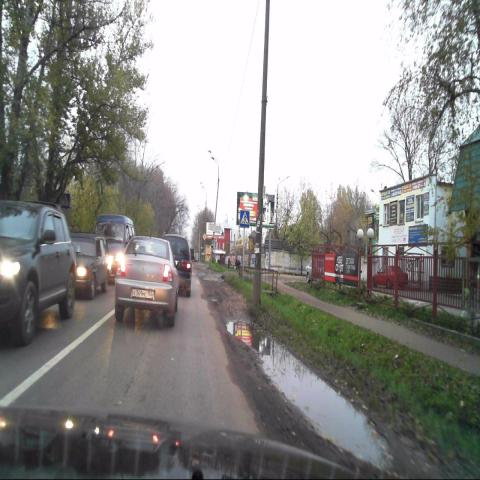5_19_1: (240, 211, 250, 228)
